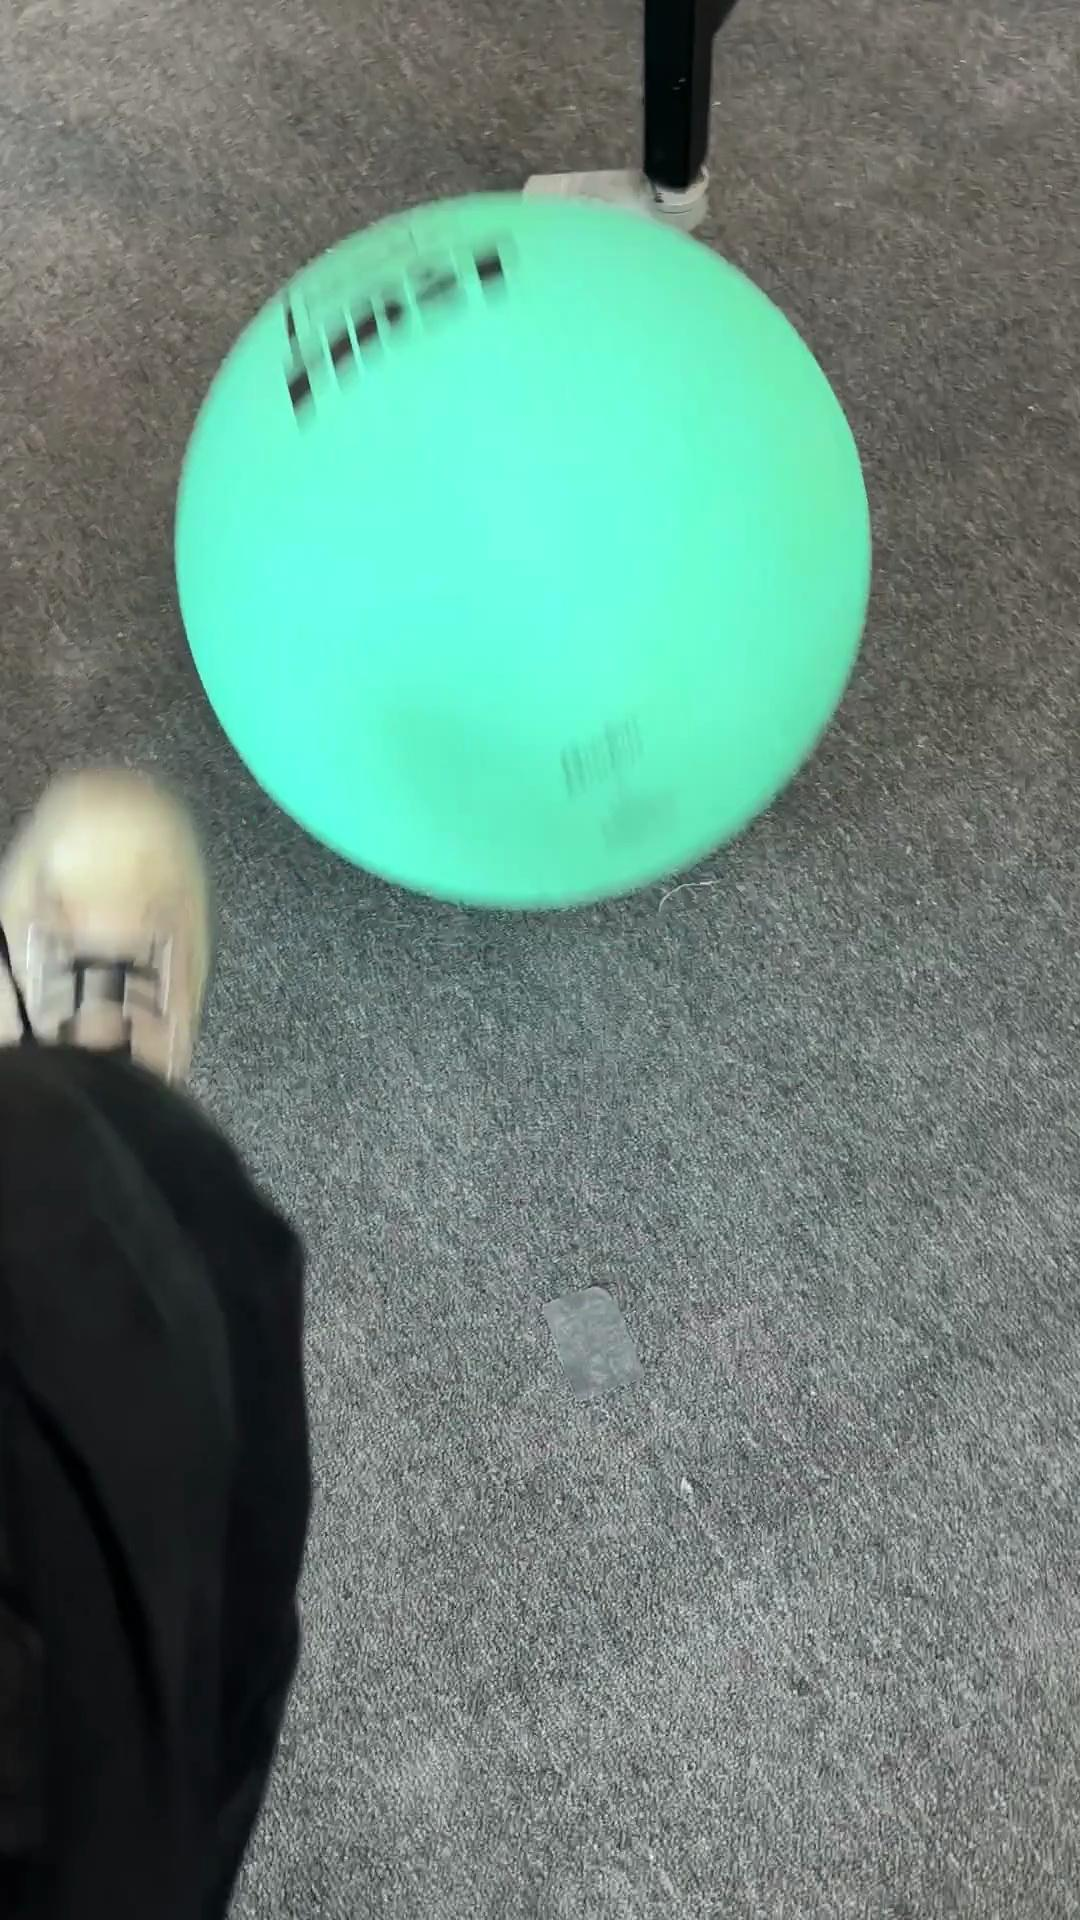ALGAE: (170, 186, 874, 915)
